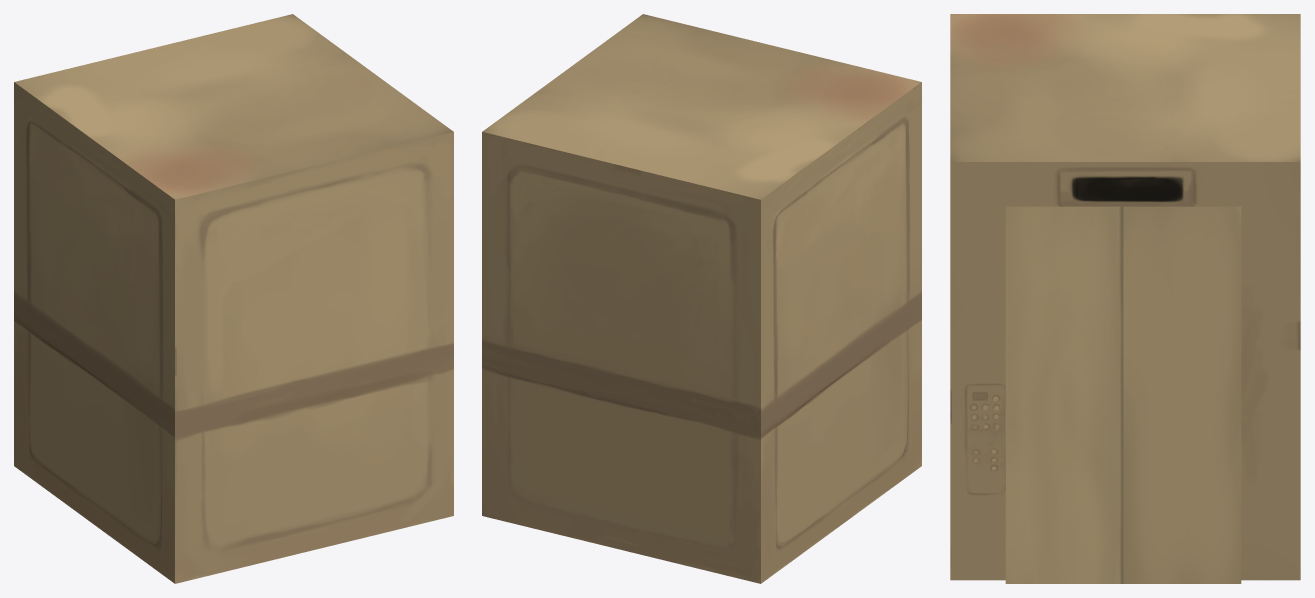
Rendered from Elevator.fbx.
The picture shows the model from 3 angles, left to right: view 1: azimuth 30°, elevation 25°; view 2: azimuth 150°, elevation 25°; view 3: azimuth 270°, elevation 25°; orthographic projection. The views are drawn at different scales.
Visible parts, largest first — view 1: Elevator Walls, Elevator Roof; view 2: Elevator Walls, Elevator Roof; view 3: Elevator Walls, Elevator Roof, Elevator Door 2.001, Elevator Door 1.001.
Boxes of the visible parts, x1,y1,x2,y2 form: Elevator Walls: [14, 82, 453, 583]; Elevator Roof: [14, 14, 453, 199]; Elevator Walls: [482, 82, 921, 583]; Elevator Roof: [482, 14, 921, 199]; Elevator Walls: [950, 162, 1300, 580]; Elevator Roof: [950, 14, 1300, 161]; Elevator Door 2.001: [1123, 206, 1241, 583]; Elevator Door 1.001: [1005, 206, 1123, 583].
Size of the model in its own units: 250 by 332 by 250.
